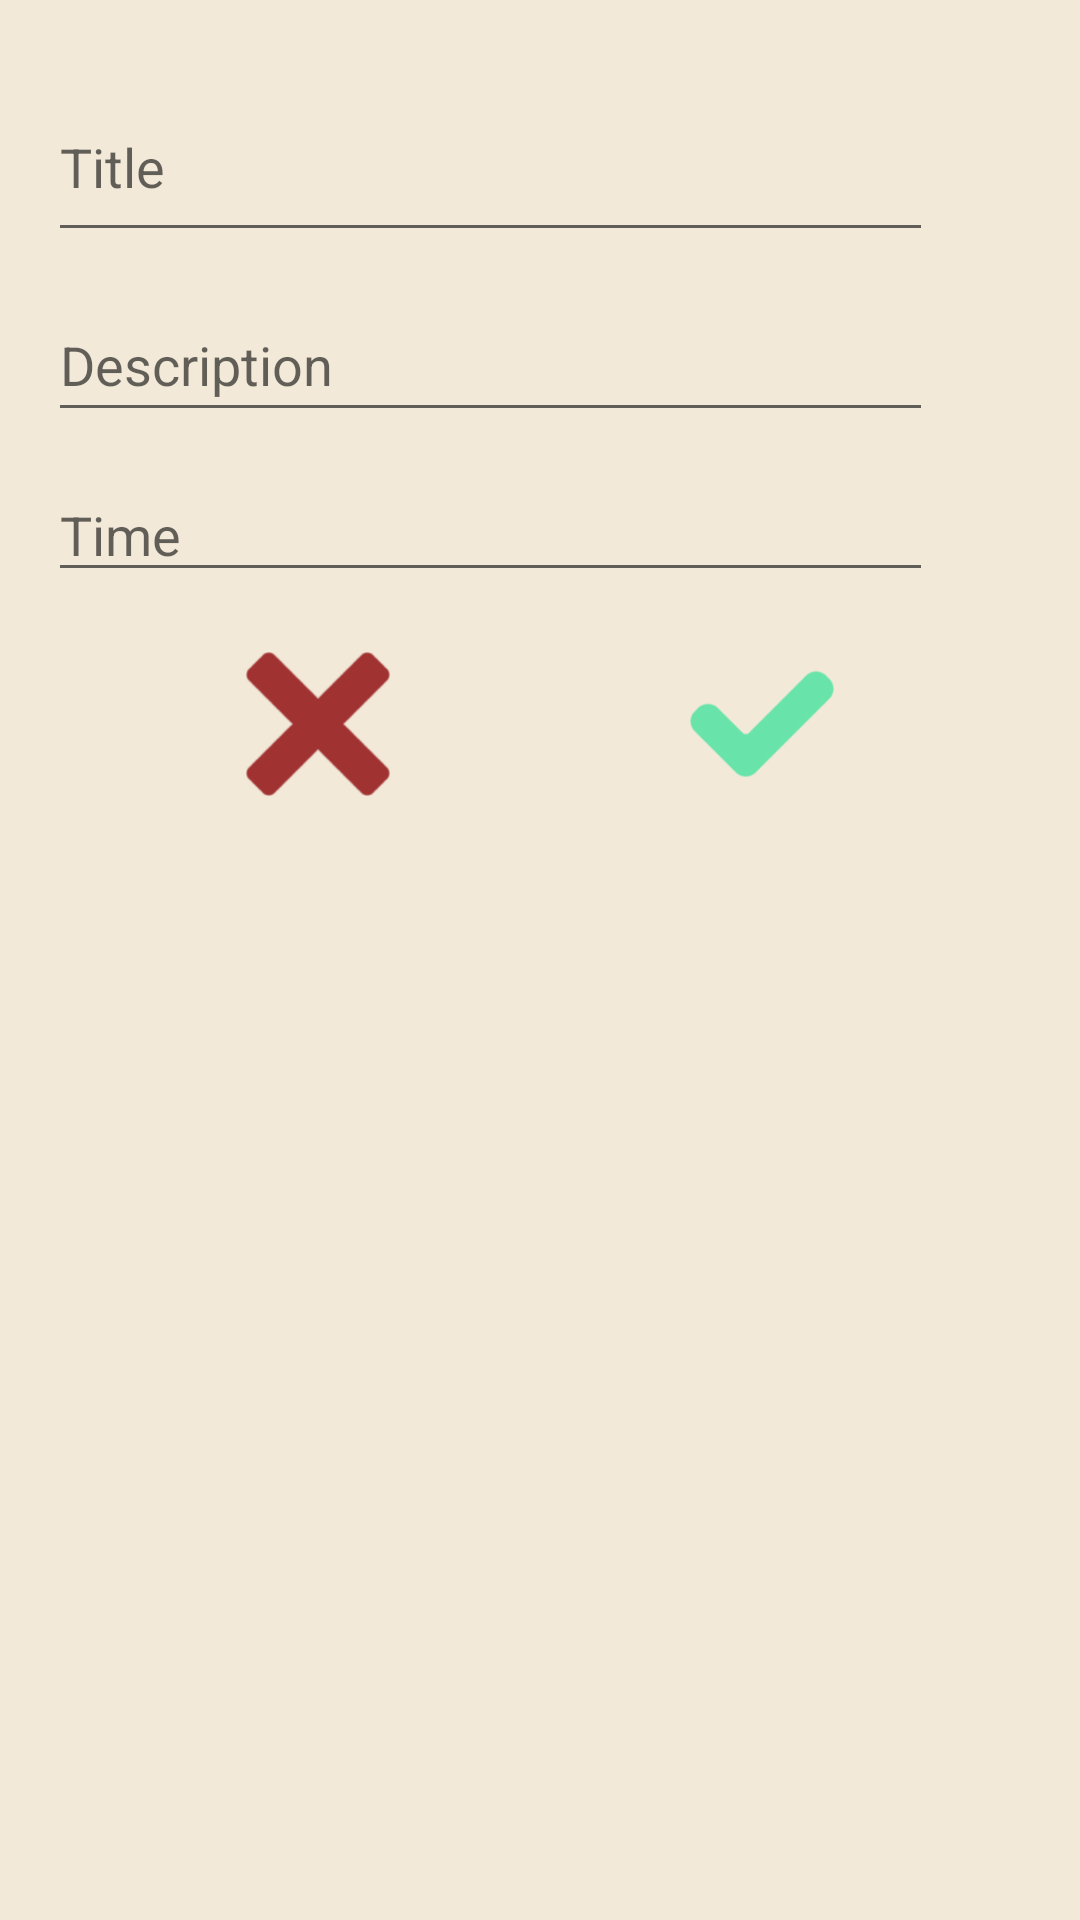

Point at icon controls on the screen. Image size 1080*1920, points as (x,y).
No: (318,724)
Yes: (762,724)
